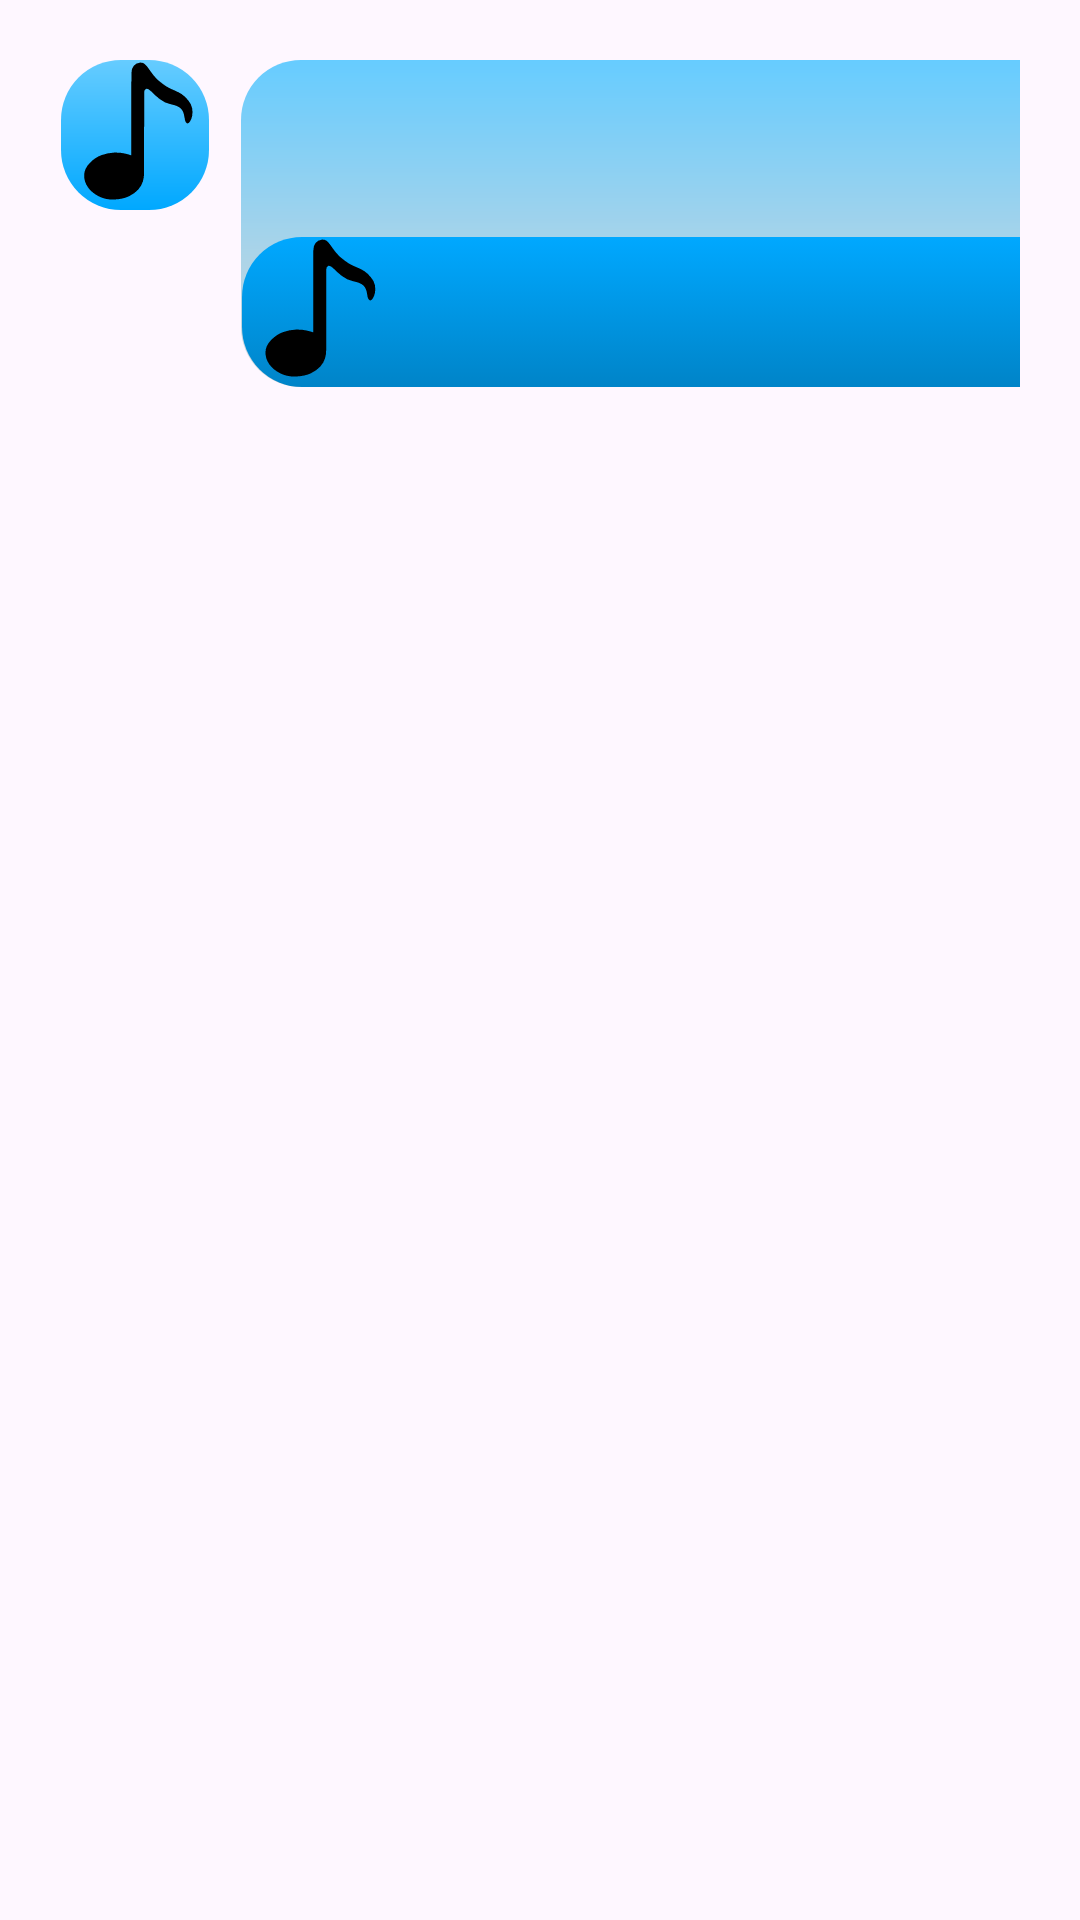

Point at icon controls on the screen. Image size 1080x1920, points as point (x, y).
music: point (135, 135), point (317, 312)
